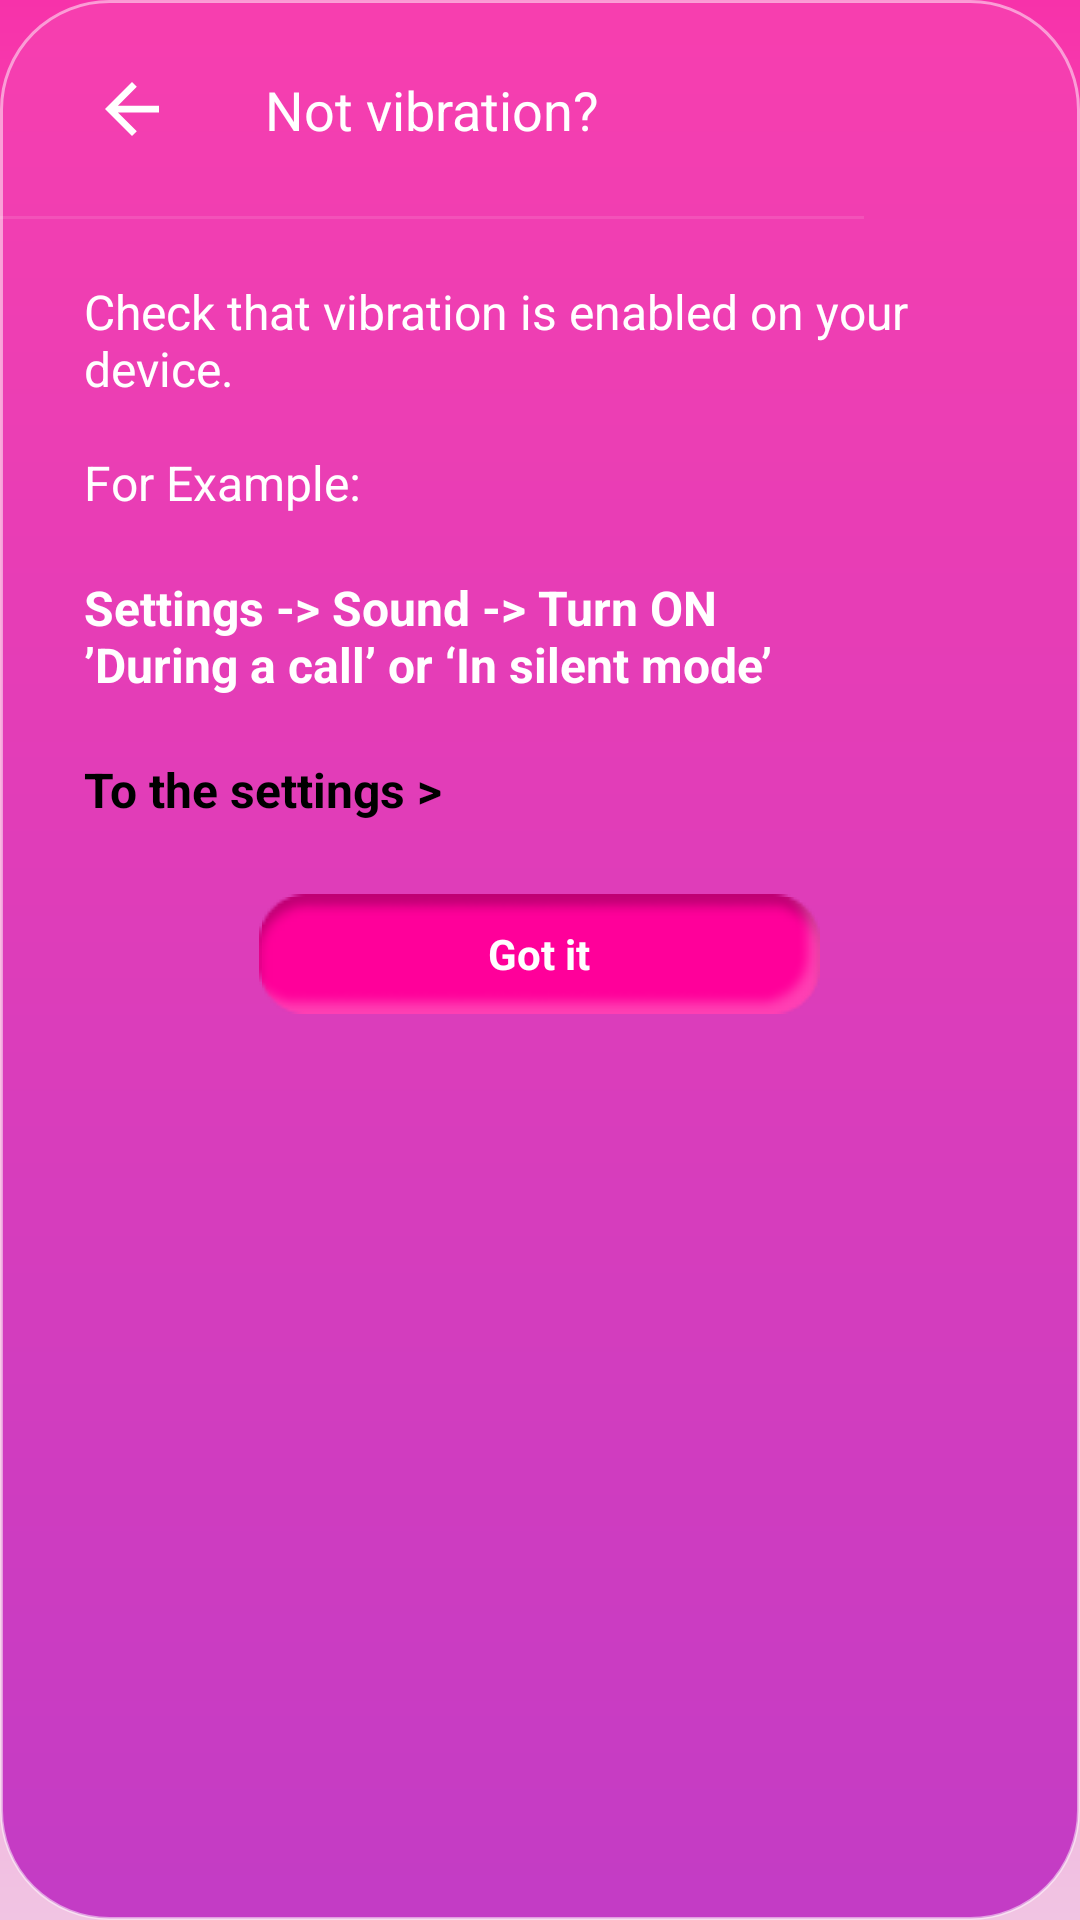

Icon click points for this 1080px x 1920px phone screenshot, format point (x, y):
back: point (132, 109)
